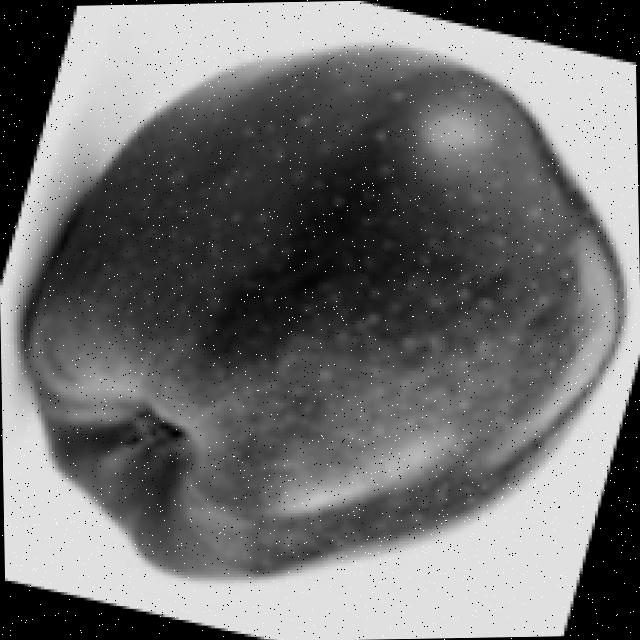Ripe: (15, 36, 637, 594)
